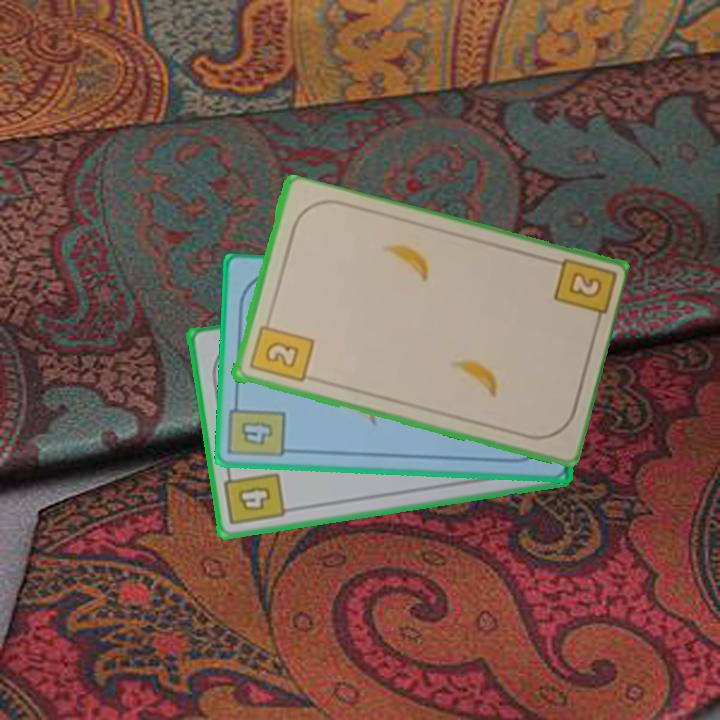2b: (245, 313, 316, 386), (564, 268, 605, 302)
4b: (221, 465, 288, 529), (227, 395, 288, 461)
